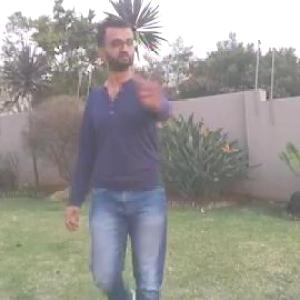takeoff-hand: (136, 66, 170, 111)
